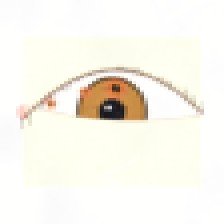foreign_body_visible: (91, 69, 140, 108)
